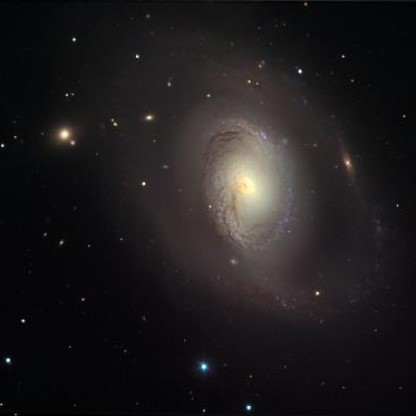Messier 96: (106, 28, 390, 326)
